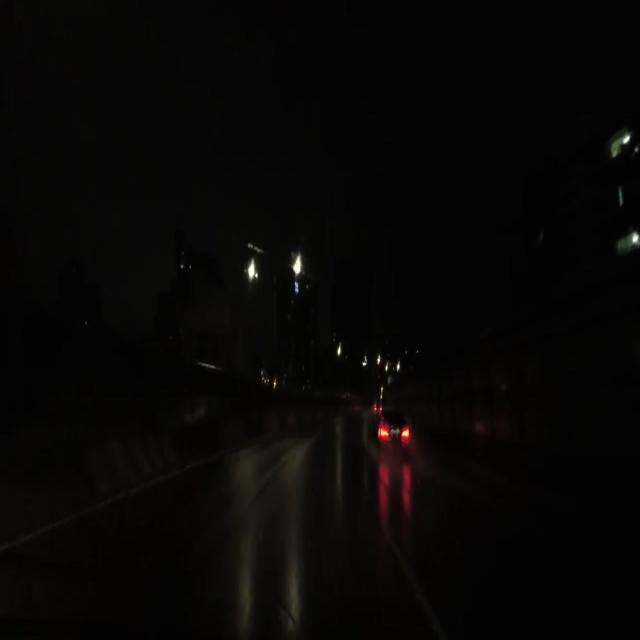Car: (369, 408, 413, 458)
